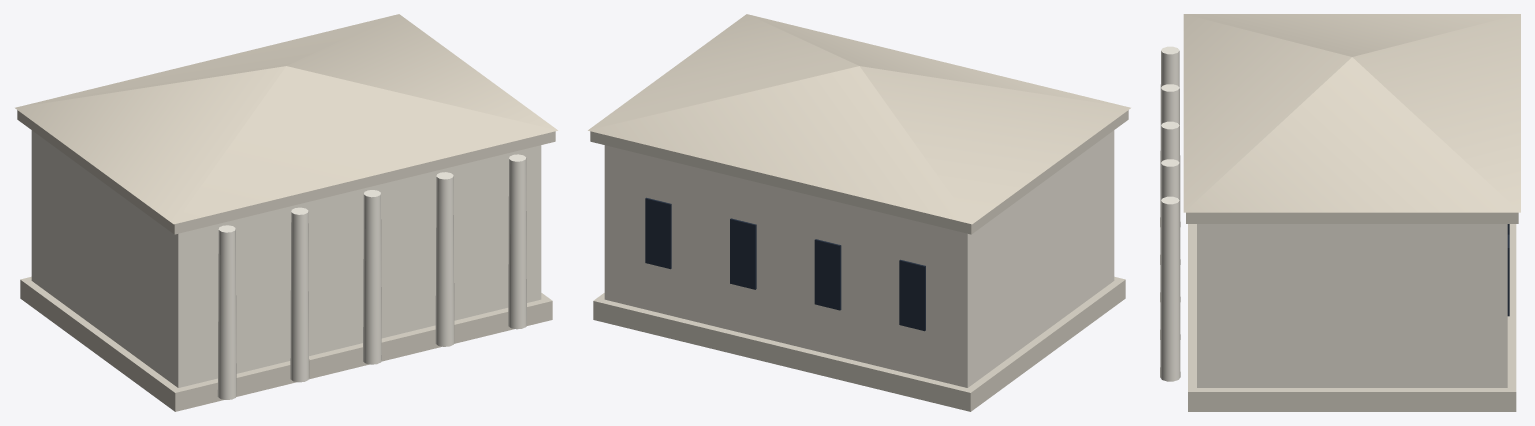
Rendered from gedung_kolonial_1.glb.
The picture shows the model from 3 angles, left to right: view 1: azimuth 30°, elevation 25°; view 2: azimuth 150°, elevation 25°; view 3: azimuth 270°, elevation 25°; orthographic projection. The views are drawn at different scales.
Bounding box in the file's own units: 21.2 × 12.8 × 16.26.
